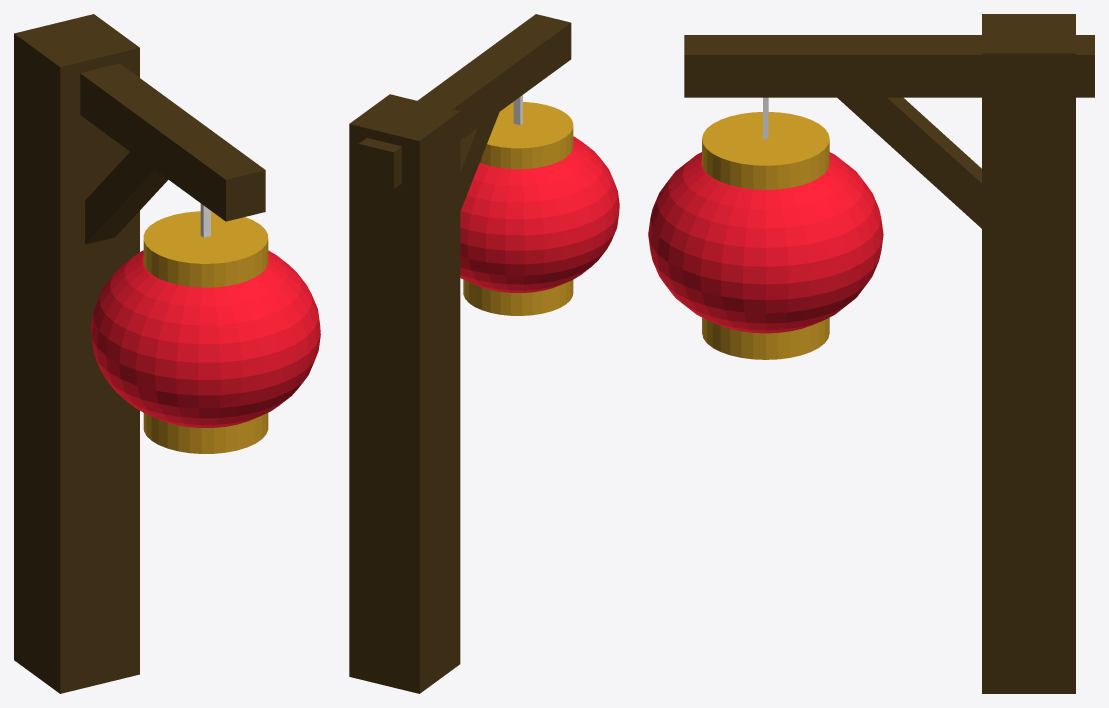
File: lantern.glb
3 views of the same model, side by side, from view 1: azimuth 30°, elevation 25°; view 2: azimuth 150°, elevation 25°; view 3: azimuth 270°, elevation 25° (orthographic). The views are drawn at different scales.
Visible parts, largest first — view 1: Cube.001, Sphere, Cube.002, Cylinder, Cube.003, Cylinder.001; view 2: Cube.001, Sphere, Cube.002, Cylinder, Cylinder.001, Cube.003; view 3: Cube.001, Sphere, Cube.002, Cylinder, Cube.003, Cylinder.001.
Boxes of the visible parts, box(x1,y1,x2,y2) form: Cube.001: box(14, 14, 139, 693); Sphere: box(91, 250, 320, 427); Cube.002: box(80, 63, 265, 221); Cylinder: box(143, 211, 268, 287); Cube.003: box(85, 152, 168, 244); Cylinder.001: box(143, 413, 268, 453); Cube.001: box(349, 94, 460, 693); Sphere: box(460, 136, 619, 292); Cube.002: box(358, 14, 571, 188); Cylinder: box(480, 102, 573, 169); Cylinder.001: box(463, 279, 573, 315); Cube.003: box(460, 112, 499, 210); Cube.001: box(982, 14, 1075, 693); Sphere: box(648, 152, 883, 333); Cube.002: box(684, 35, 1094, 97); Cylinder: box(702, 112, 829, 189); Cube.003: box(837, 97, 981, 228); Cylinder.001: box(702, 317, 829, 359).
Size of the model in its own units: 0.908 by 2.72 by 1.72.
